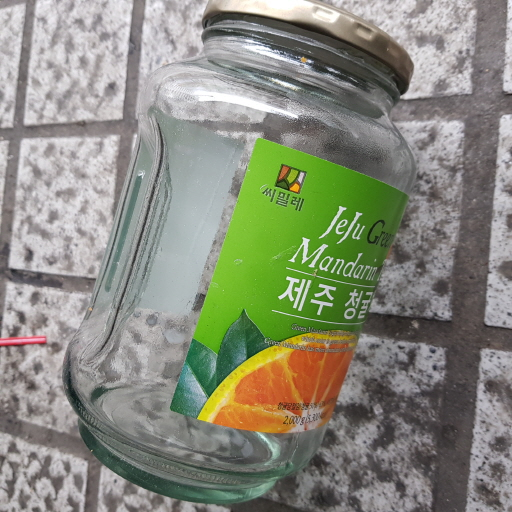Glass_5: (62, 3, 414, 502)
